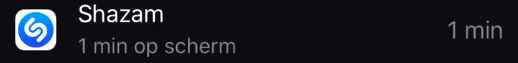name: (71, 1, 171, 32)
time: (75, 34, 132, 63)
